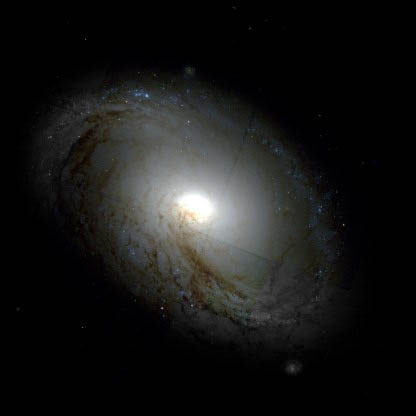Messier 96: (35, 69, 347, 379)
